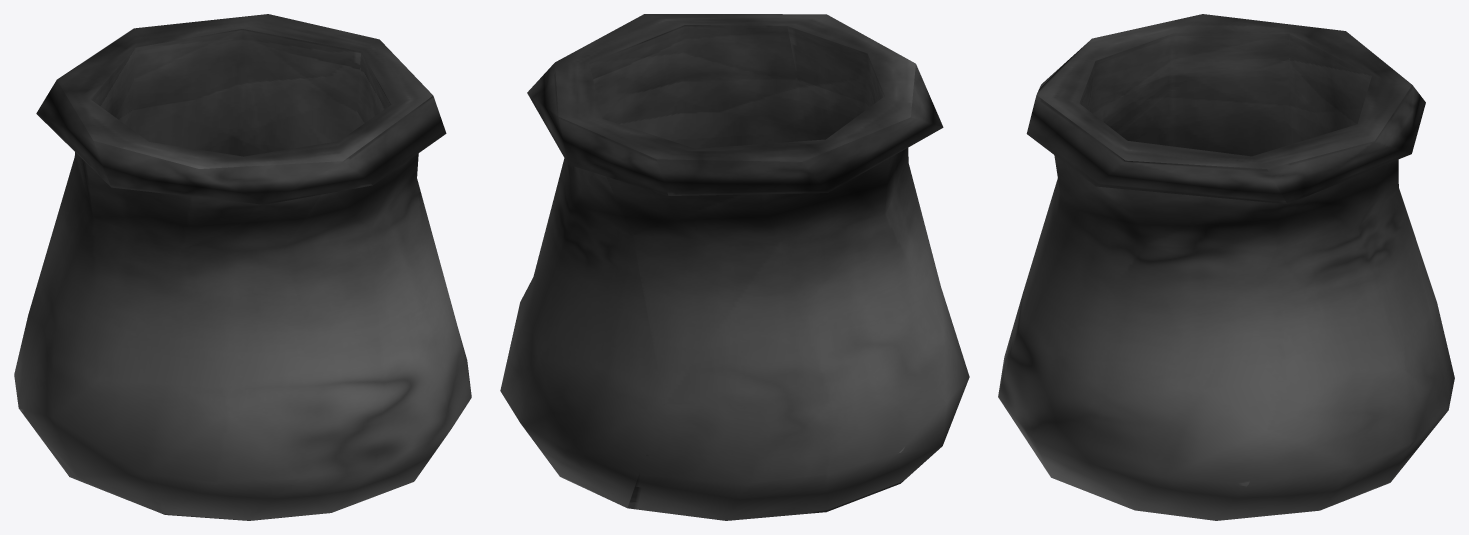
File: Canon.glb
3 renders of one model, left to right at view 1: azimuth 30°, elevation 25°; view 2: azimuth 150°, elevation 25°; view 3: azimuth 270°, elevation 25°, orthographic.
Visible parts, largest first — view 1: Cylinder; view 2: Cylinder; view 3: Cylinder.
Part boxes in pixels (x1,y1,x2,y2): Cylinder: [14, 14, 471, 520]; Cylinder: [500, 14, 969, 520]; Cylinder: [998, 14, 1454, 520].
Size of the model in its own units: 1.3 by 1.15 by 1.29.
Materials: 1 (1 with a texture image).
